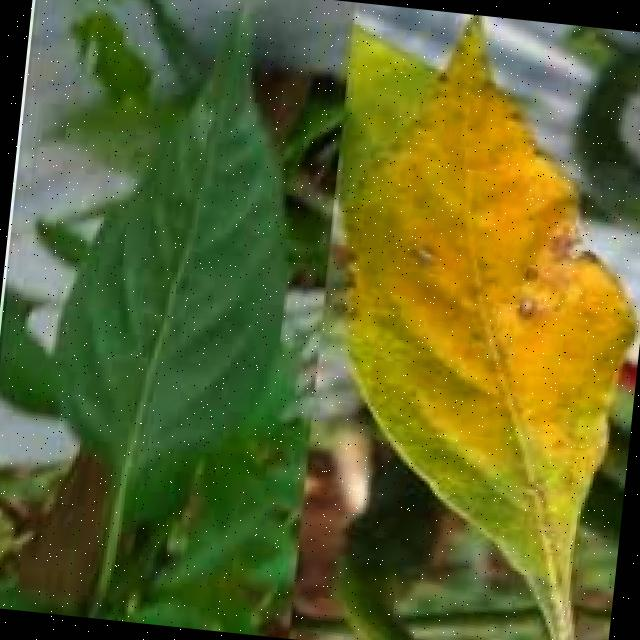yellow: (285, 1, 640, 640)
